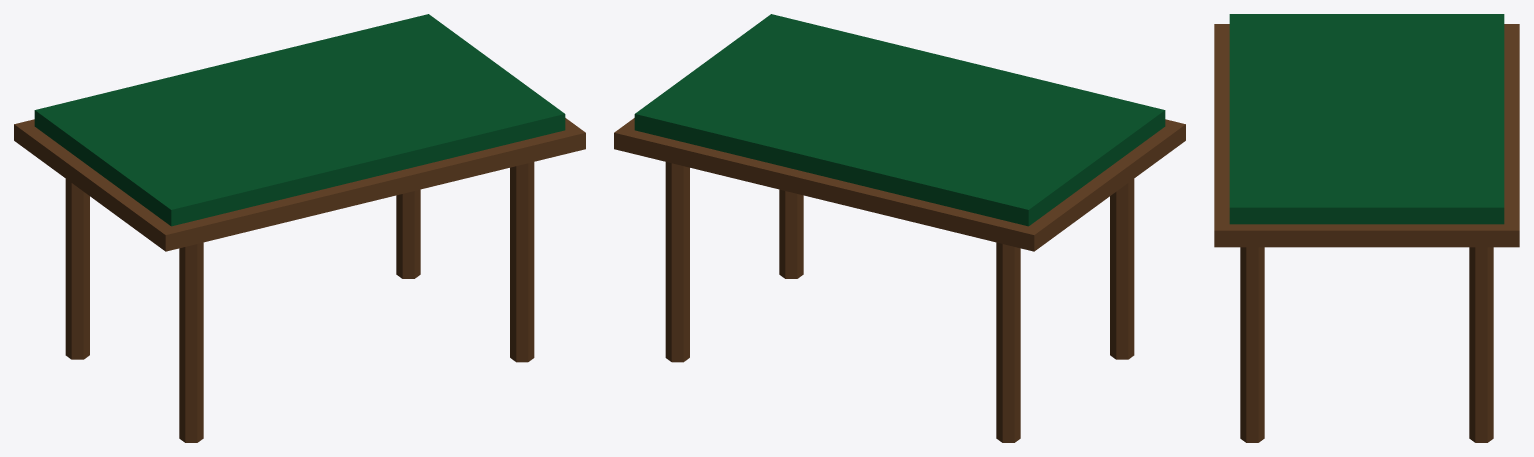
The model's file is Prop_OR_FeltTable_04.glb.
The picture shows the model from 3 angles, left to right: view 1: azimuth 30°, elevation 25°; view 2: azimuth 150°, elevation 25°; view 3: azimuth 270°, elevation 25°; orthographic projection.
Parts seen in each view (by area): view 1: Prop_OR_FeltTable_04; view 2: Prop_OR_FeltTable_04; view 3: Prop_OR_FeltTable_04.
Part boxes in pixels (left/top/right/bottom): Prop_OR_FeltTable_04: left=14, top=14, right=585, bottom=442; Prop_OR_FeltTable_04: left=614, top=14, right=1185, bottom=442; Prop_OR_FeltTable_04: left=1214, top=14, right=1519, bottom=442.
Bounding box in the file's own units: 1.6 × 0.89 × 1.
